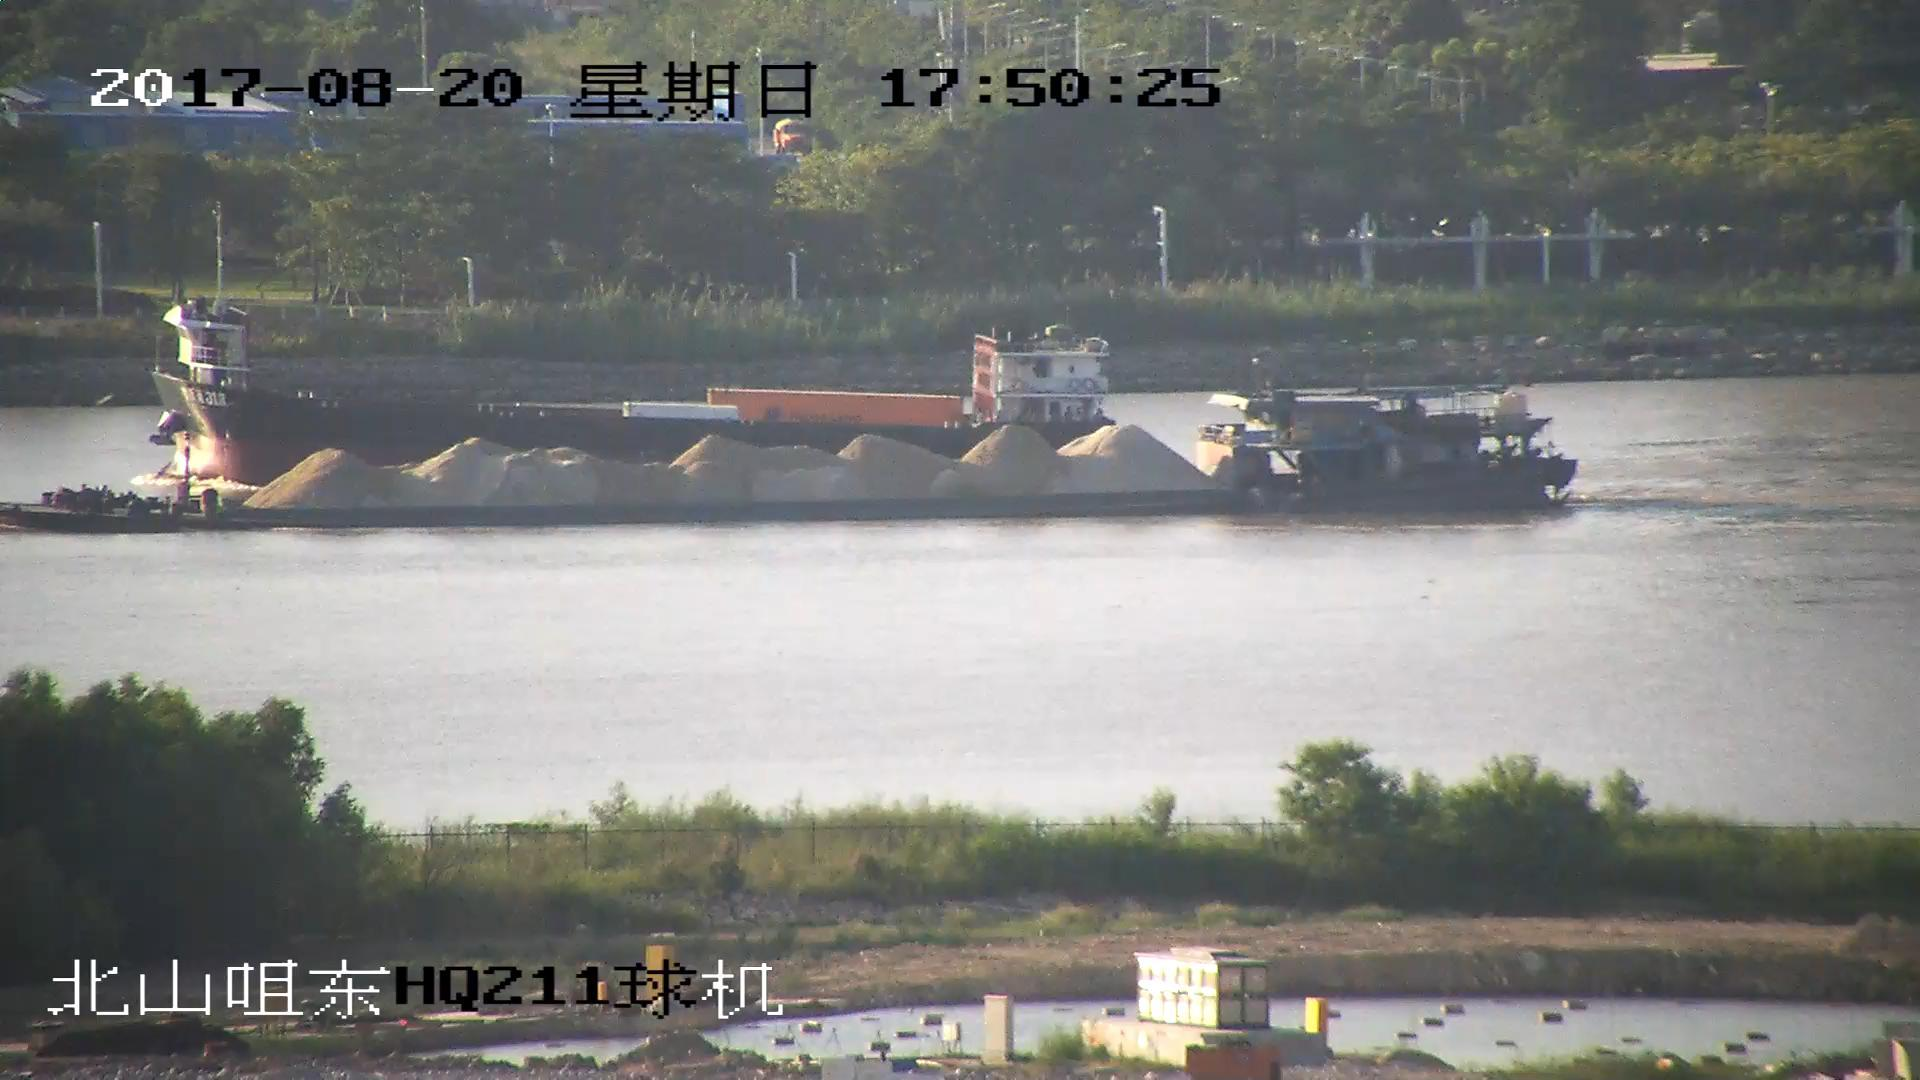Ship: (152, 204, 1120, 491), (3, 386, 1582, 520)
